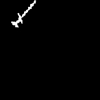double_crochet: (12, 1, 35, 26)
